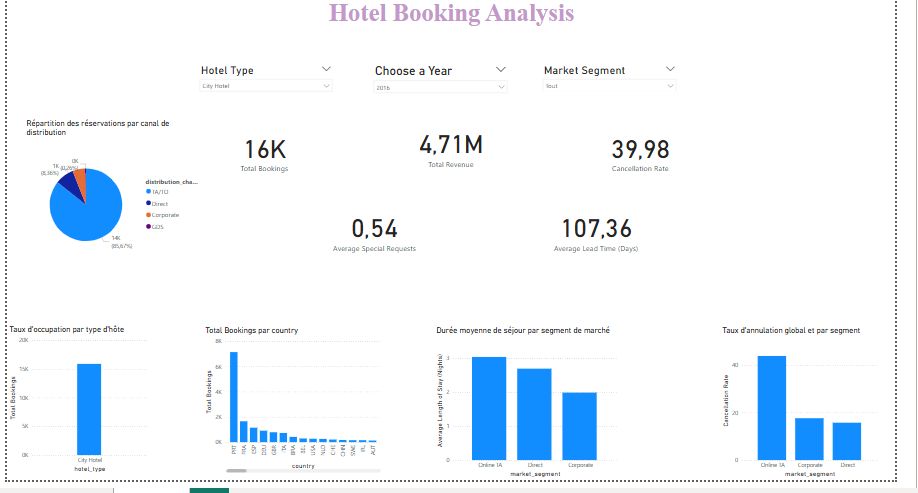

What the dashboard file says about the page in this screenshot:
{"tool":"powerbi","page":{"name":"Page 1","canvas":[1920,1080],"ordinal":0},"visuals":[{"type":"columnChart","title":"Taux d''occupation par type d''hôte","fields":{"Y":["dw_final fact_booking.Total Bookings"],"Category":["dw_final dim_hotel.hotel_type"]},"box":[0,745.2,306.7,324],"z":0},{"type":"card","fields":{"Values":["dw_final fact_booking.Total Revenue"]},"box":[794.9,285.1,328.3,146.9],"z":1000},{"type":"clusteredColumnChart","title":"Durée moyenne de séjour par segment de marché","fields":{"Category":["dw_final dim_sales_channel.market_segment"],"Y":["dw_final fact_booking.Average Length of Stay (Nights)"]},"box":[922.3,747.4,399.6,332.6],"z":2000},{"type":"card","fields":{"Values":["dw_final fact_booking.Cancellation Rate"]},"box":[1196.6,285.1,343.4,166.3],"z":3000},{"type":"clusteredColumnChart","title":"Taux d''annulation global et par segment","fields":{"Category":["dw_final dim_sales_channel.market_segment"],"Y":["dw_final fact_booking.Cancellation Rate"]},"box":[1540.1,747.4,345.6,332.6],"z":4000},{"type":"card","title":"Délai moyen entre réservation et arrivée","fields":{"Values":["dw_final fact_booking.Average Lead Time (Days)"]},"box":[1123.2,466.6,298.1,146.9],"z":5000},{"type":"clusteredColumnChart","fields":{"Category":["dw_final dim_guest.country"],"Y":["dw_final fact_booking.Total Bookings"]},"box":[423.4,747.4,388.8,321.8],"z":6000},{"type":"card","fields":{"Values":["dw_final fact_booking.Average Special Requests"]},"box":[643.7,466.6,300.2,146.9],"z":7000},{"type":"card","fields":{"Values":["dw_final fact_booking.Total Bookings"]},"box":[406.1,285.1,300.2,166.3],"z":8000},{"type":"textbox","box":[0,0,1920.1,240.7],"z":9000},{"type":"slicer","fields":{"Values":["dw_final dim_time.year_num"]},"box":[781.9,175,308.9,129.6],"z":10000},{"type":"pieChart","title":"Répartition des réservations par canal de distribution ","fields":{"Y":["dw_final fact_booking.Total Bookings"],"Category":["dw_final dim_sales_channel.distribution_channel"]},"box":[36.7,300.2,386.6,332.6],"z":11000},{"type":"slicer","fields":{"Values":["dw_final dim_hotel.hotel_type"]},"box":[406.1,175,306.7,129.6],"z":12000},{"type":"slicer","fields":{"Values":["dw_final dim_sales_channel.market_segment"]},"box":[1147,175,308.9,64.8],"z":13000}]}

Visuals, with their boxes on the page's 1920x1080 design canvas (x1, y1, x2, y2). These are canvas units, not pixel positions in the 918x493 screenshot, which may show the page scaled, cropped or inside an application window:
"Taux d''occupation par type d''hôte" columnChart: bbox(0, 745, 307, 1069)
card - dw_final fact_booking.Total Revenue: bbox(795, 285, 1123, 432)
"Durée moyenne de séjour par segment de marché" clusteredColumnChart: bbox(922, 747, 1322, 1080)
card - dw_final fact_booking.Cancellation Rate: bbox(1197, 285, 1540, 451)
"Taux d''annulation global et par segment" clusteredColumnChart: bbox(1540, 747, 1886, 1080)
"Délai moyen entre réservation et arrivée" card: bbox(1123, 467, 1421, 614)
clusteredColumnChart - dw_final dim_guest.country x dw_final fact_booking.Total Bookings: bbox(423, 747, 812, 1069)
card - dw_final fact_booking.Average Special Requests: bbox(644, 467, 944, 614)
card - dw_final fact_booking.Total Bookings: bbox(406, 285, 706, 451)
textbox: bbox(0, 0, 1920, 241)
slicer - dw_final dim_time.year_num: bbox(782, 175, 1091, 305)
"Répartition des réservations par canal de distribution " pieChart: bbox(37, 300, 423, 633)
slicer - dw_final dim_hotel.hotel_type: bbox(406, 175, 713, 305)
slicer - dw_final dim_sales_channel.market_segment: bbox(1147, 175, 1456, 240)
